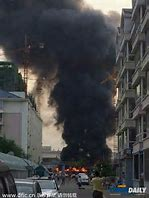smoke: (32, 1, 116, 165)
